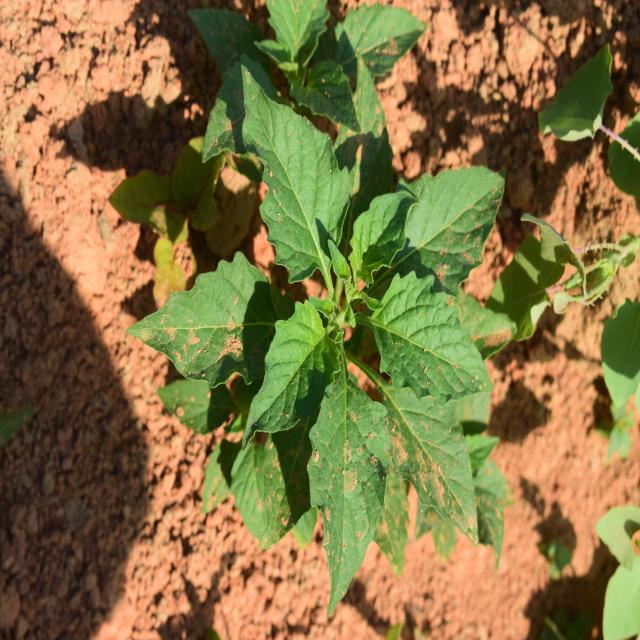Black_nightshade: (206, 111, 513, 572)
